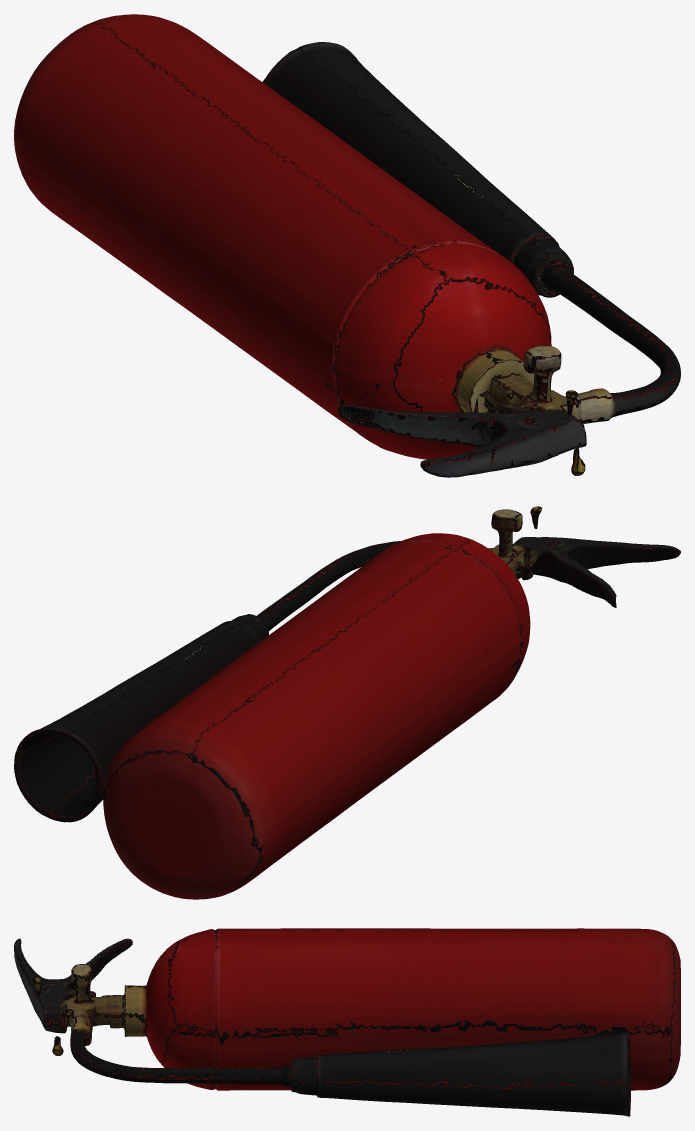
3 views of the same model, one above another, from view 1: azimuth 30°, elevation 25°; view 2: azimuth 150°, elevation 25°; view 3: azimuth 270°, elevation 25° (orthographic). The views are drawn at different scales.
Bounding box in the file's own units: 0.238 × 0.1236 × 0.5174.
1 material, 1 textured.
